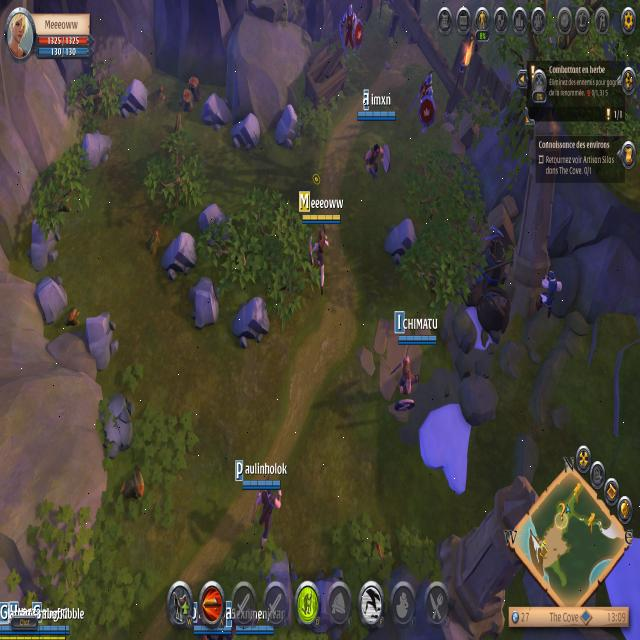broken stone: (98, 389, 135, 463)
stone: (230, 292, 272, 352), (82, 309, 120, 374), (24, 213, 62, 270), (33, 270, 69, 329), (186, 272, 221, 331), (383, 216, 420, 269), (196, 194, 230, 250), (162, 226, 197, 280), (114, 74, 149, 120), (272, 100, 303, 151), (81, 126, 113, 171), (228, 110, 262, 152), (200, 87, 232, 131)
